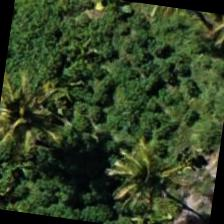Kelapa_Sawit: (103, 124, 206, 223), (0, 61, 76, 161)
